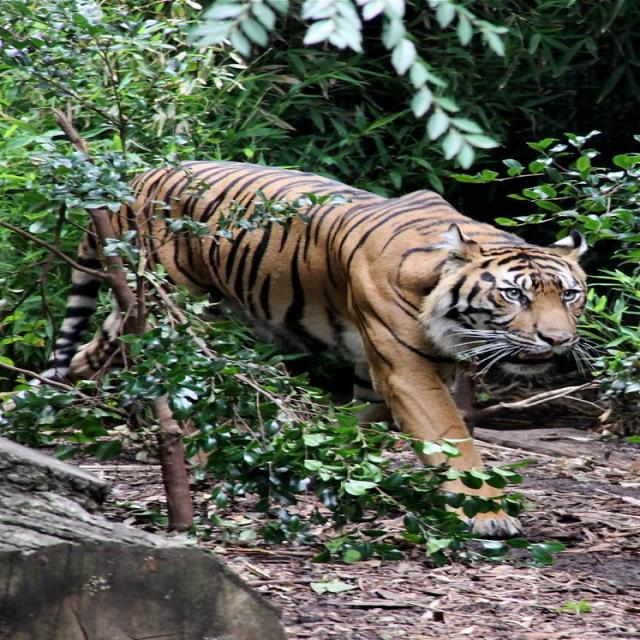Tiger: (12, 156, 597, 543)
